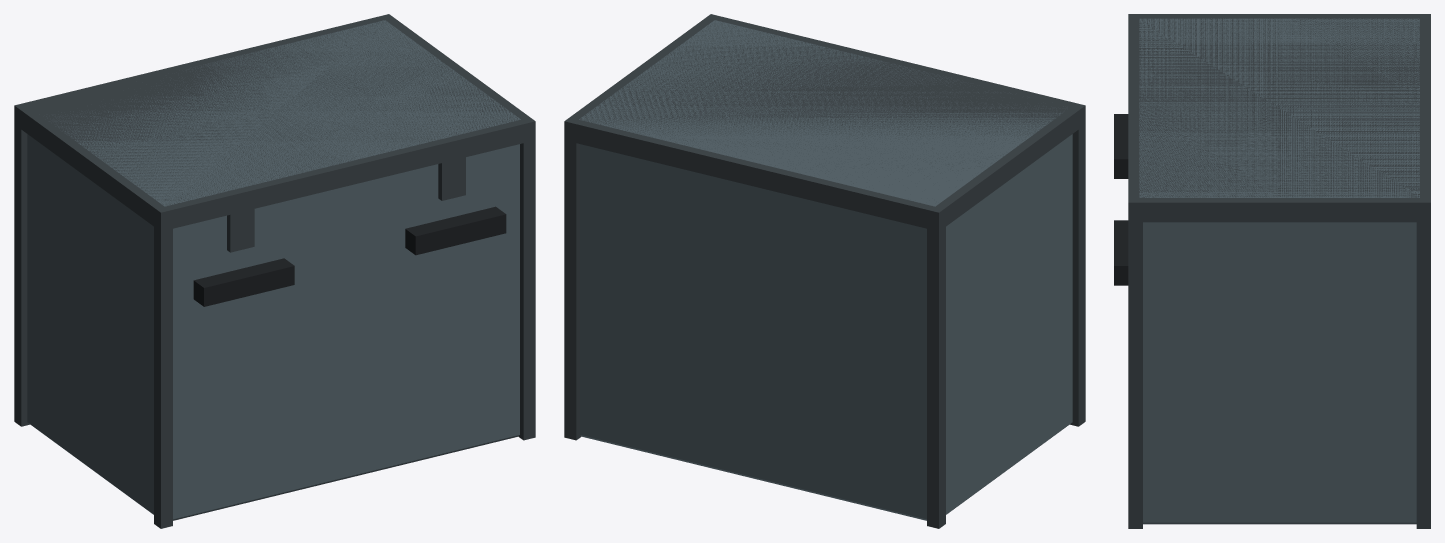
Rendered from lab_container_a.glb.
3 views of the same model, side by side, from view 1: azimuth 30°, elevation 25°; view 2: azimuth 150°, elevation 25°; view 3: azimuth 270°, elevation 25° (orthographic). The views are drawn at different scales.
Visible parts, largest first — view 1: lab_container_a; view 2: lab_container_a; view 3: lab_container_a.
Boxes of the visible parts, box(x1,y1,x2,y2) form: lab_container_a: box(14, 14, 535, 528); lab_container_a: box(564, 14, 1085, 528); lab_container_a: box(1114, 14, 1430, 528).
Size of the model in its own units: 1.24 by 1 by 0.88.
